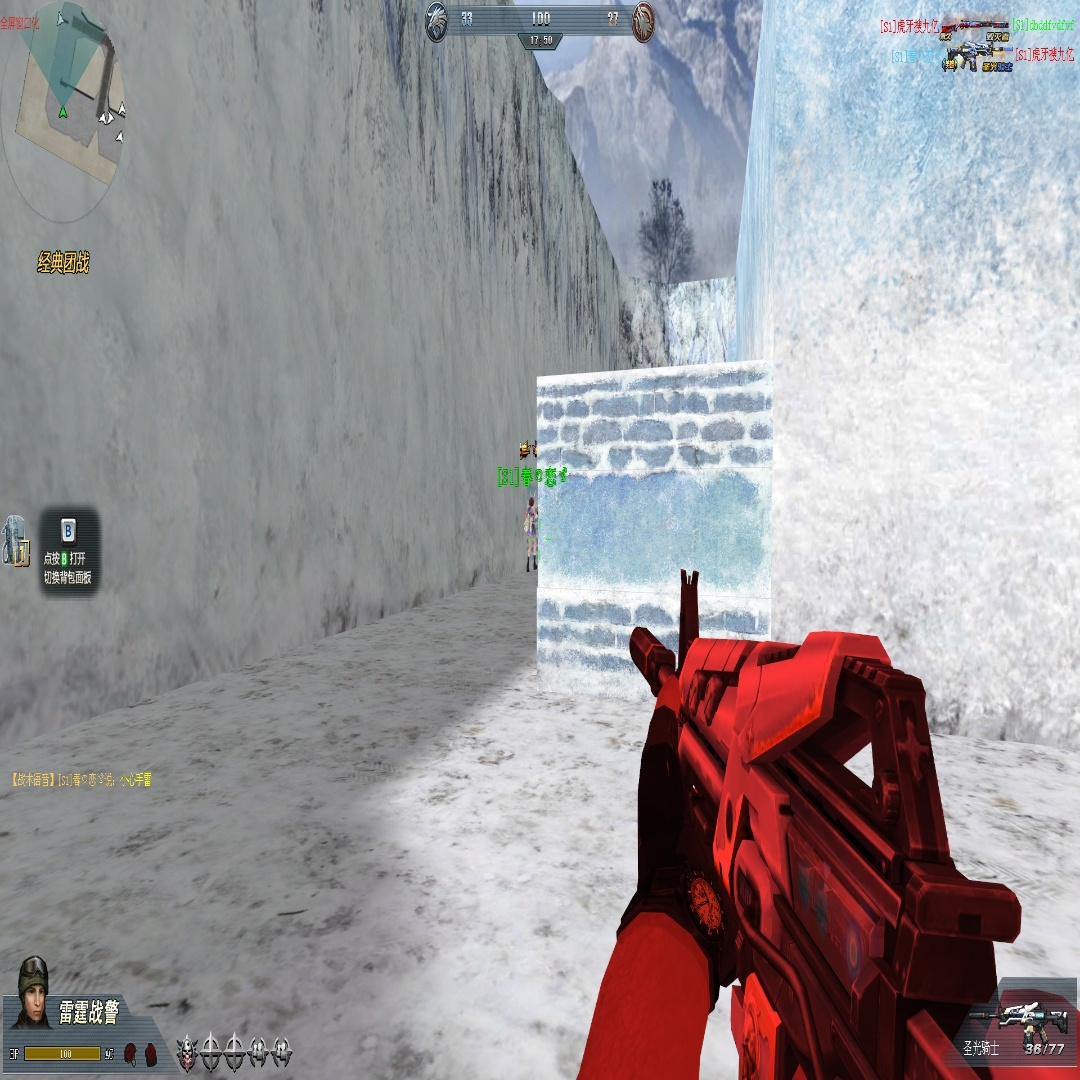ct: (524, 490, 539, 576)
head: (529, 493, 535, 508)
